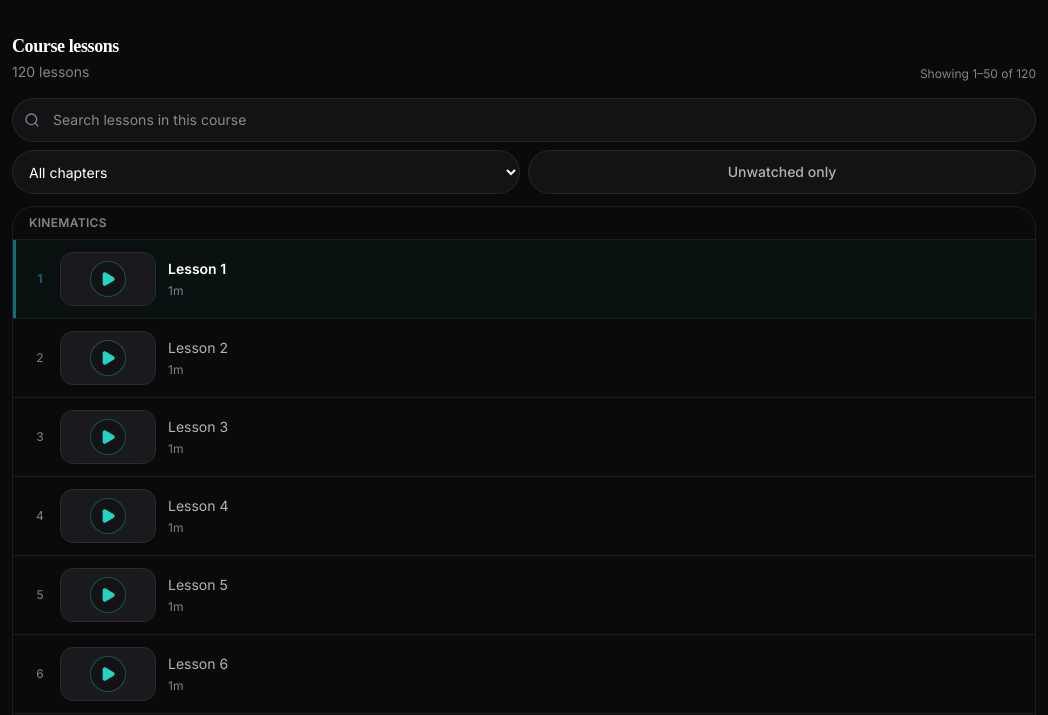
Test: large course lesson sequence › searches the entire course, including lessons outside the current page
Type "Lesson 117" into the search field labelled "Search lessons in this course" at (524, 120), box left=12, top=98, right=1036, bottom=142
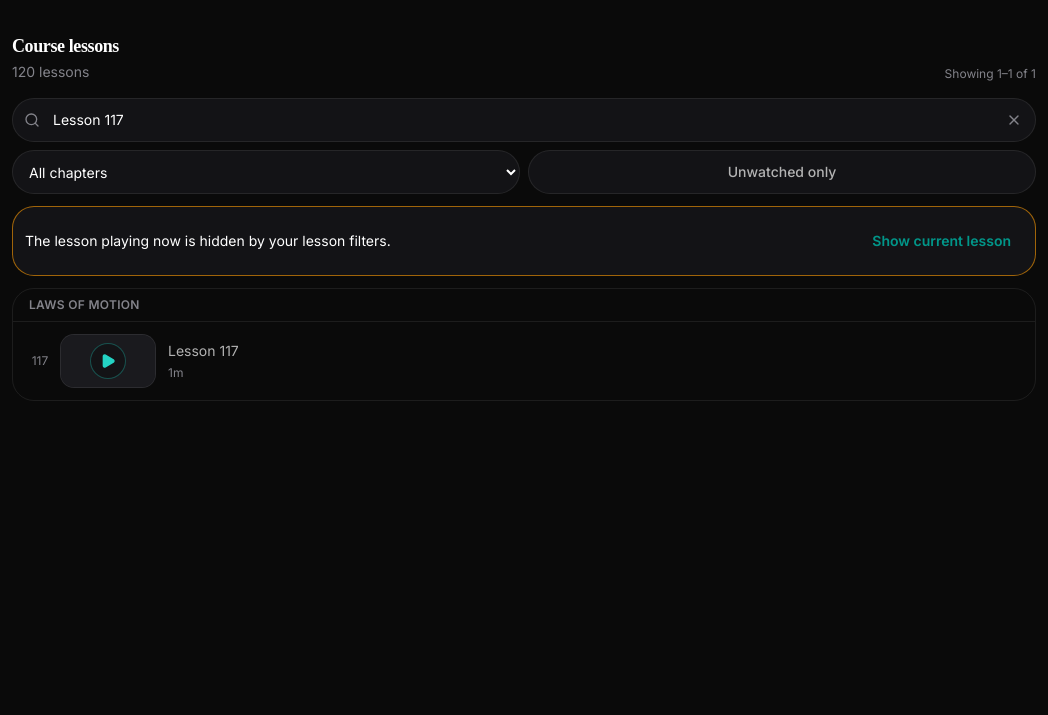
expect the text "Lesson 117" is shown: met, box left=168, top=342, right=239, bottom=359
expect the text "Showing 1–1 of 1" is shown: met, box left=945, top=66, right=1036, bottom=82
